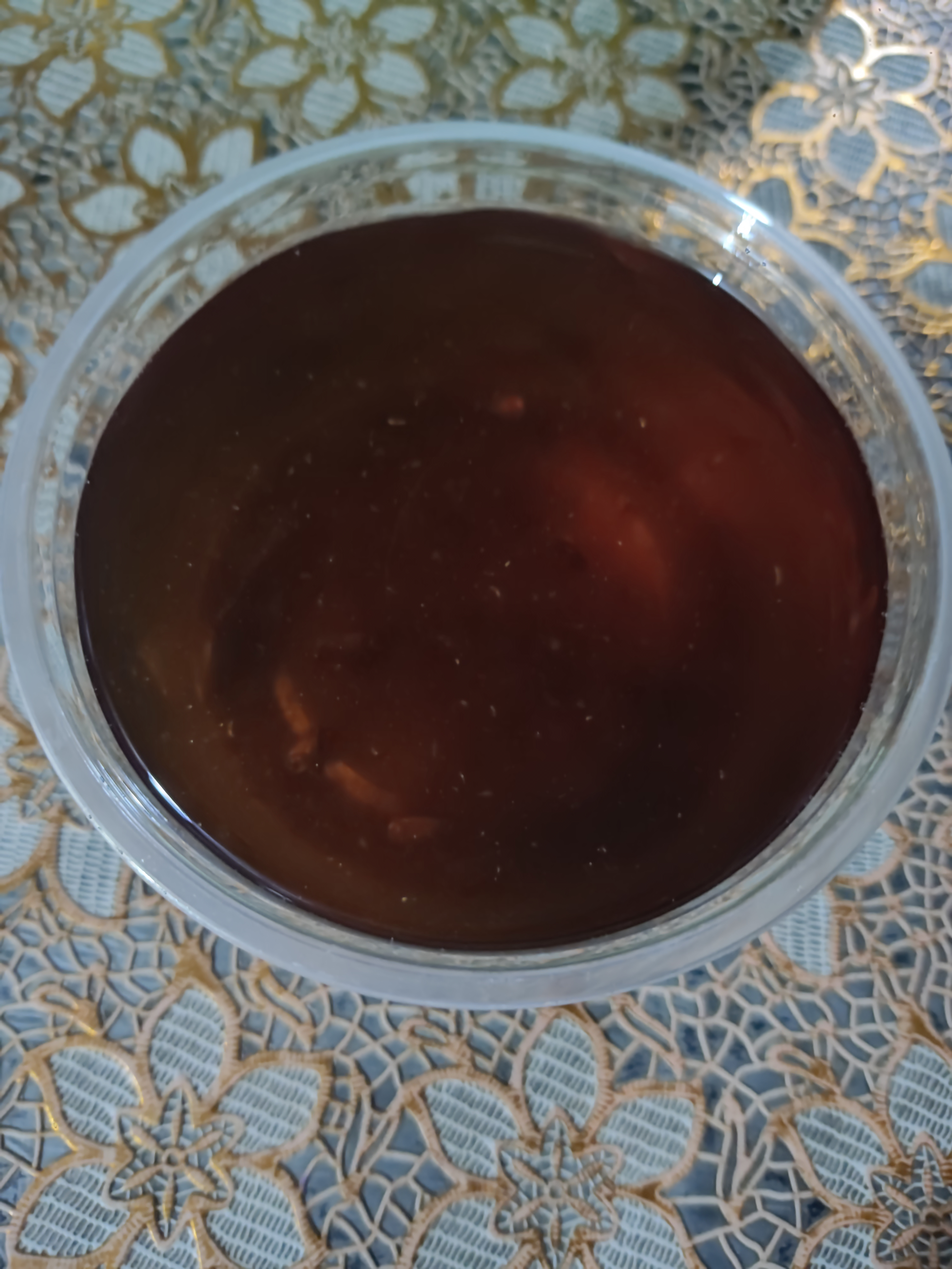non-reusable: (86, 213, 882, 945)
